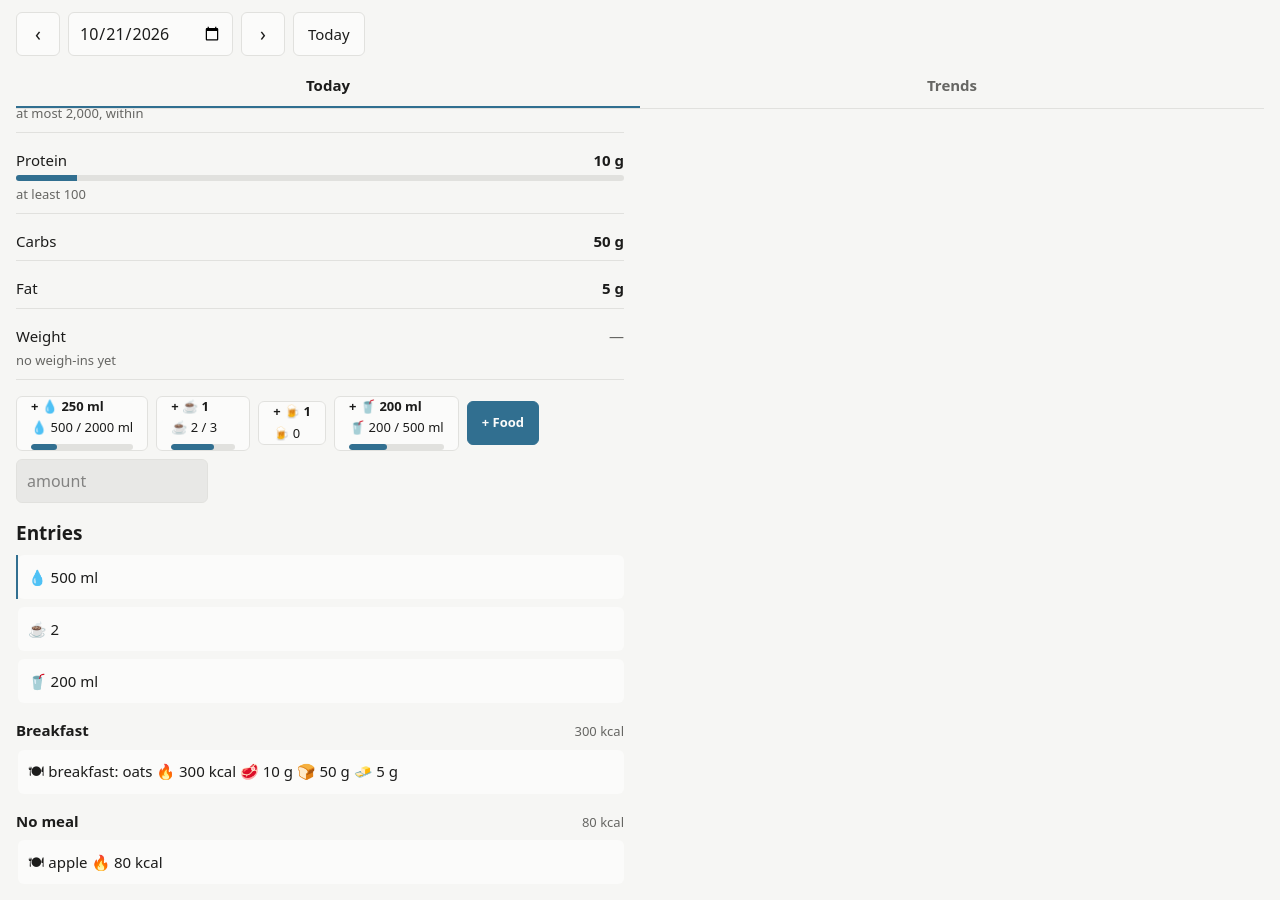
#624 Escape leaves the edit without writing
(page scrolled)
Click the button "💧 500 ml": (63, 577) [18,555,624,599]
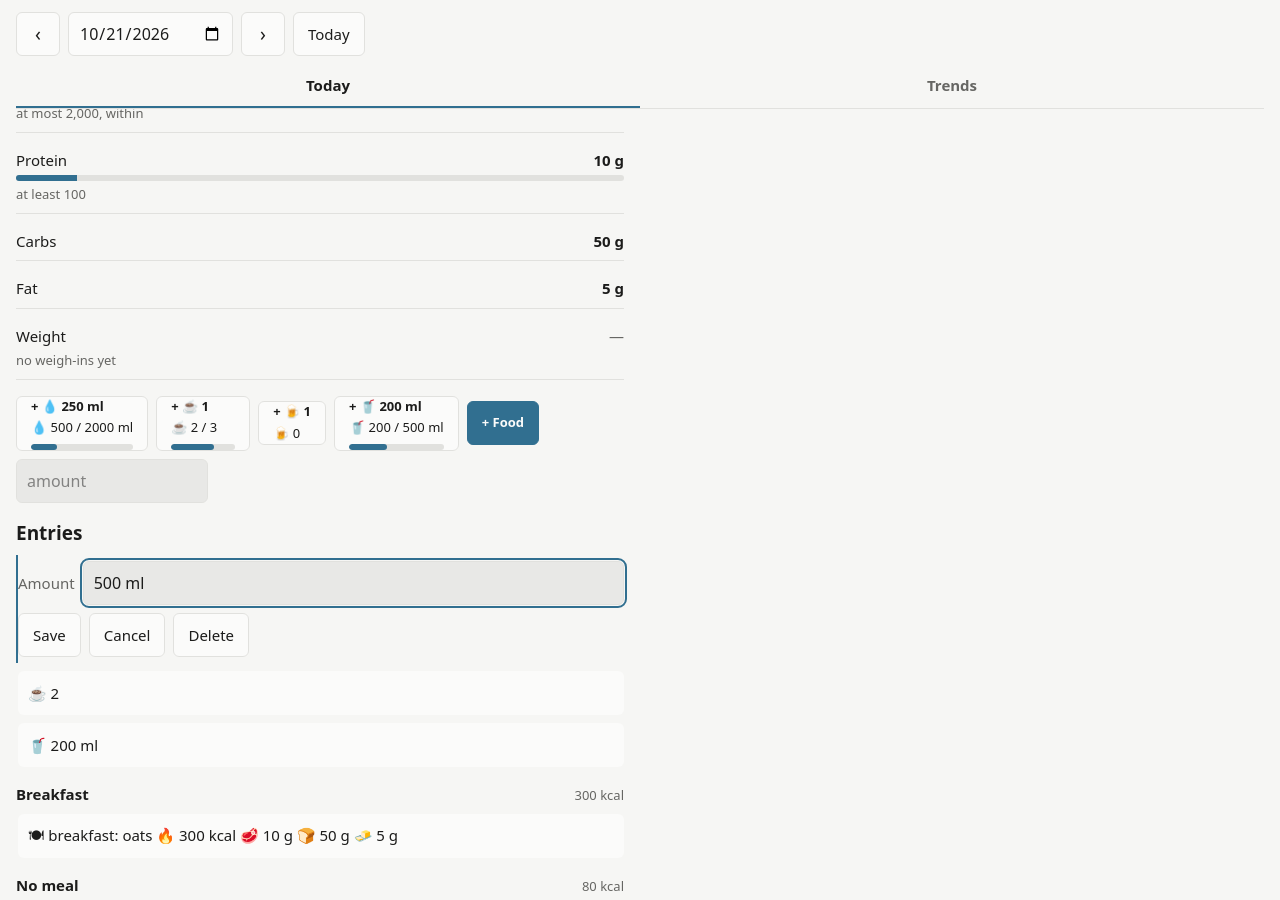
Replace the text in the field labelled "Amount" with "750": (353, 583) [83,561,624,605]
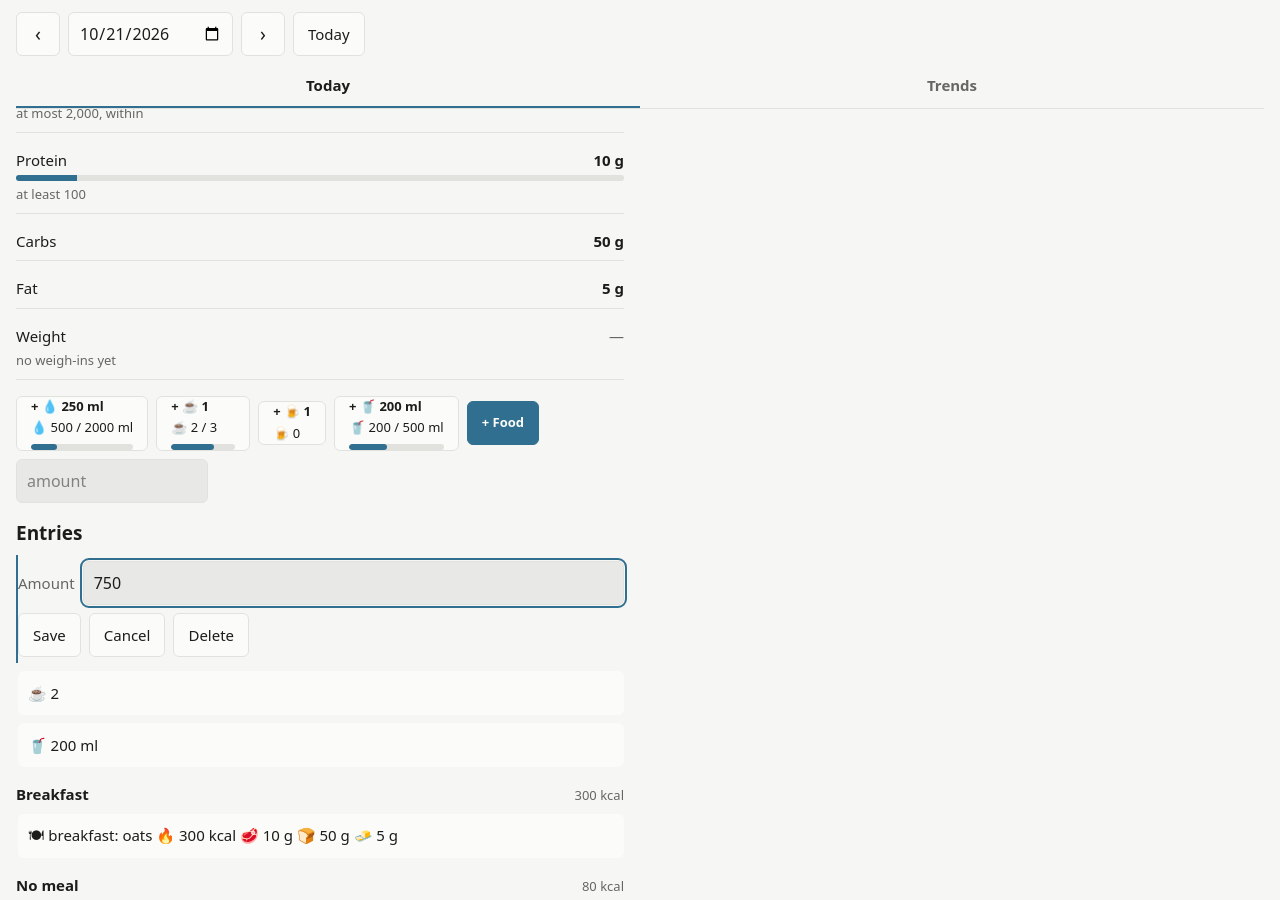
Press Escape in the field labelled "Amount", box [83,561,624,605]
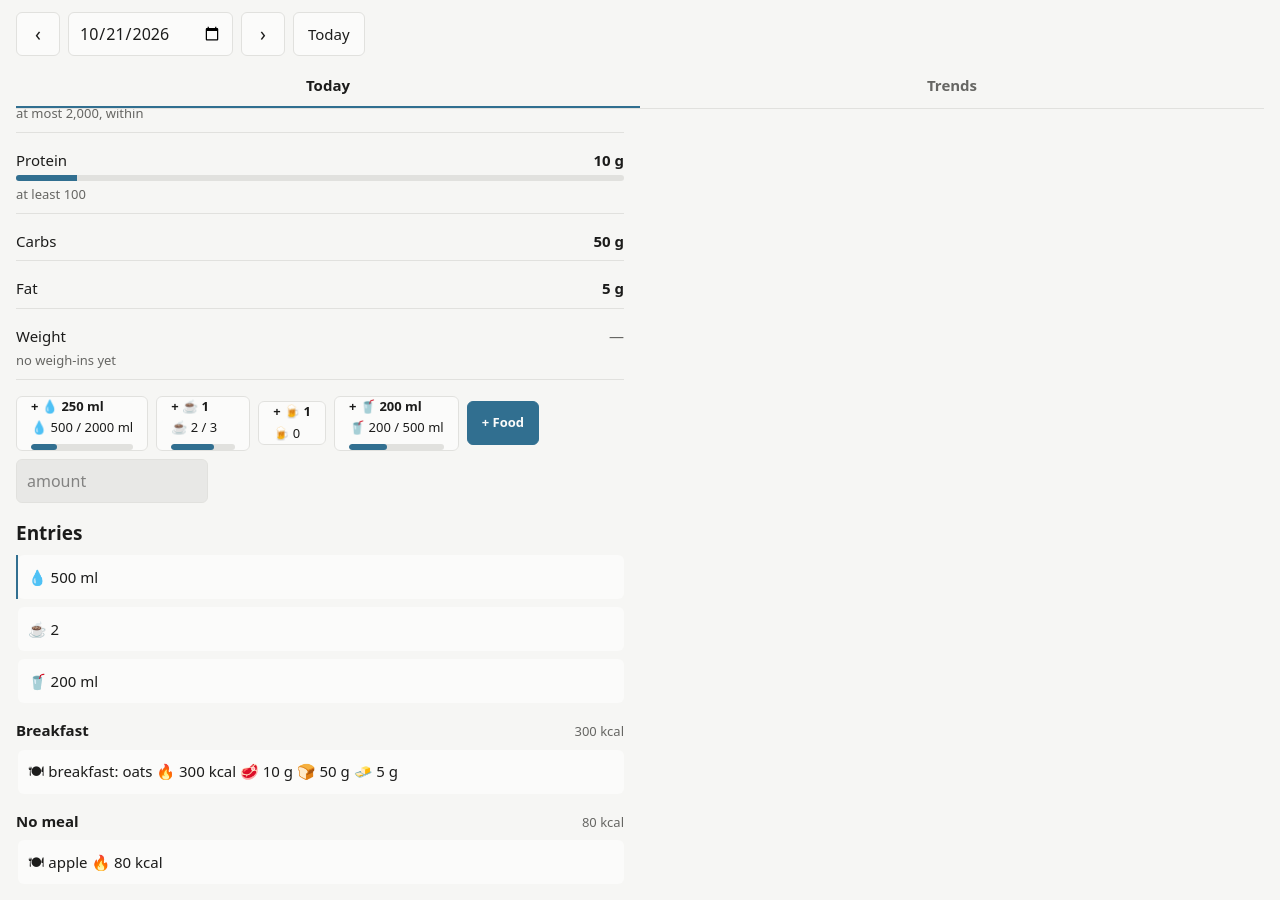
Expected: the form with class "log-pane-edit" is gone
